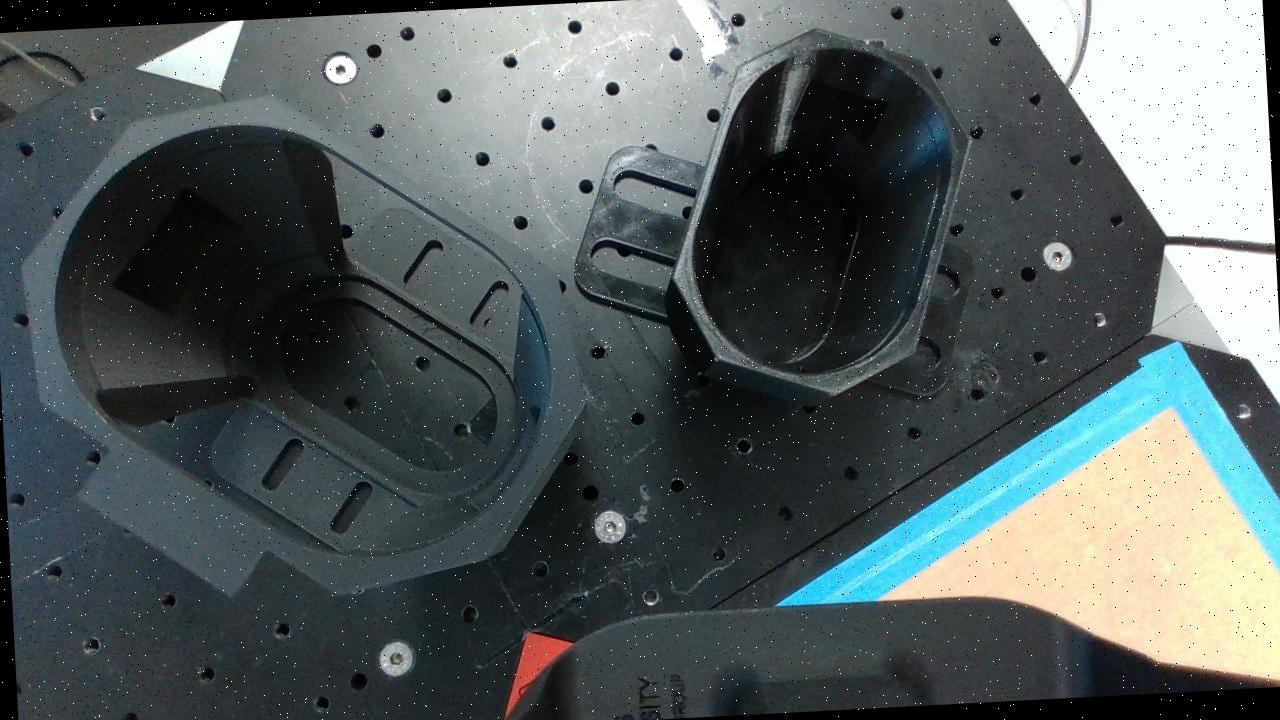big_interface: (12, 80, 597, 612)
small_interface: (660, 21, 984, 403)
